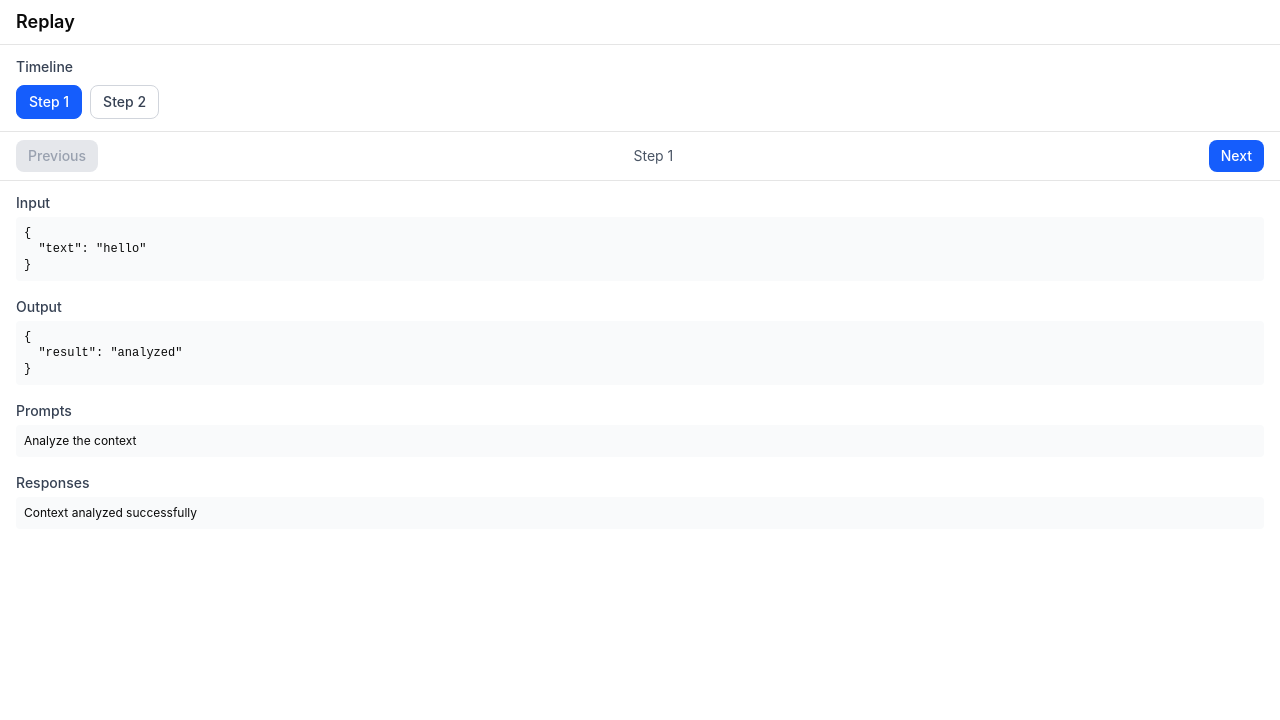
Test: ReplayViewer › clicking timeline step navigates directly
Note: Click step 2 directly in the timeline
Click the button with test id "timeline-step-2".
click(125, 102)  # box top-left (90, 85), bottom-right (159, 119)
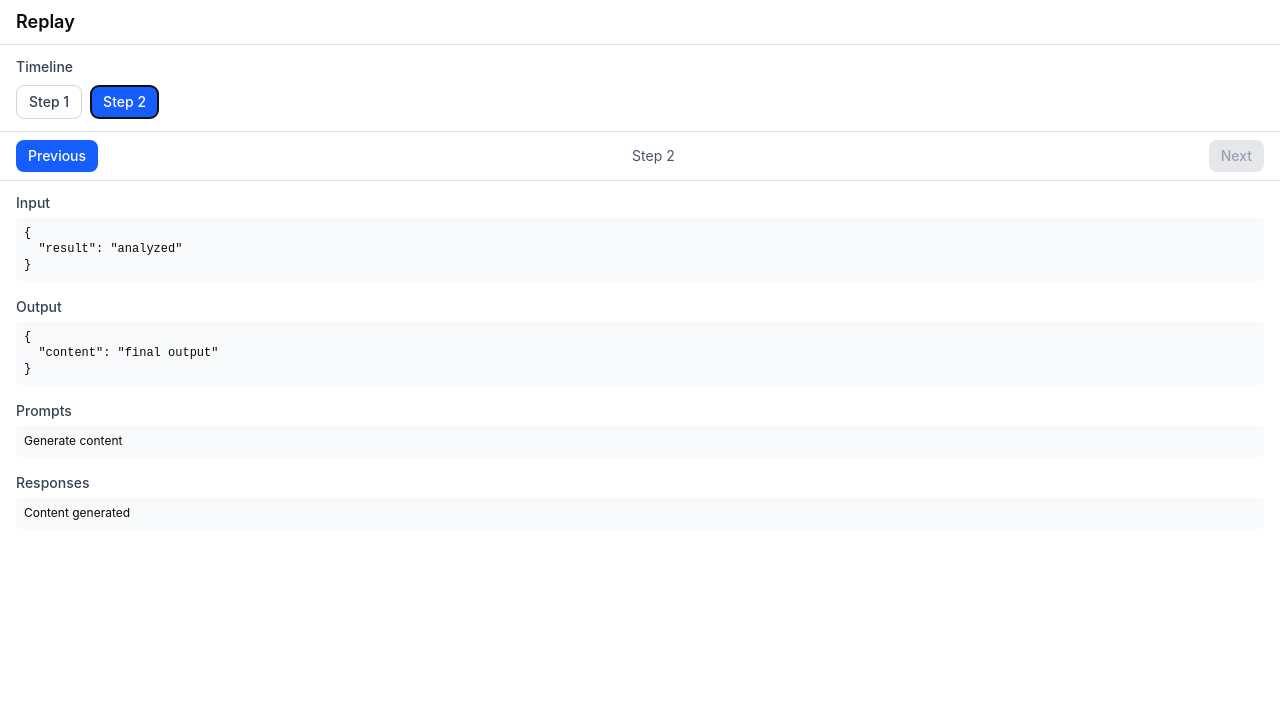
Result: the element with test id "step-input" shows "analyzed" at top-left (24, 226), bottom-right (182, 272)
